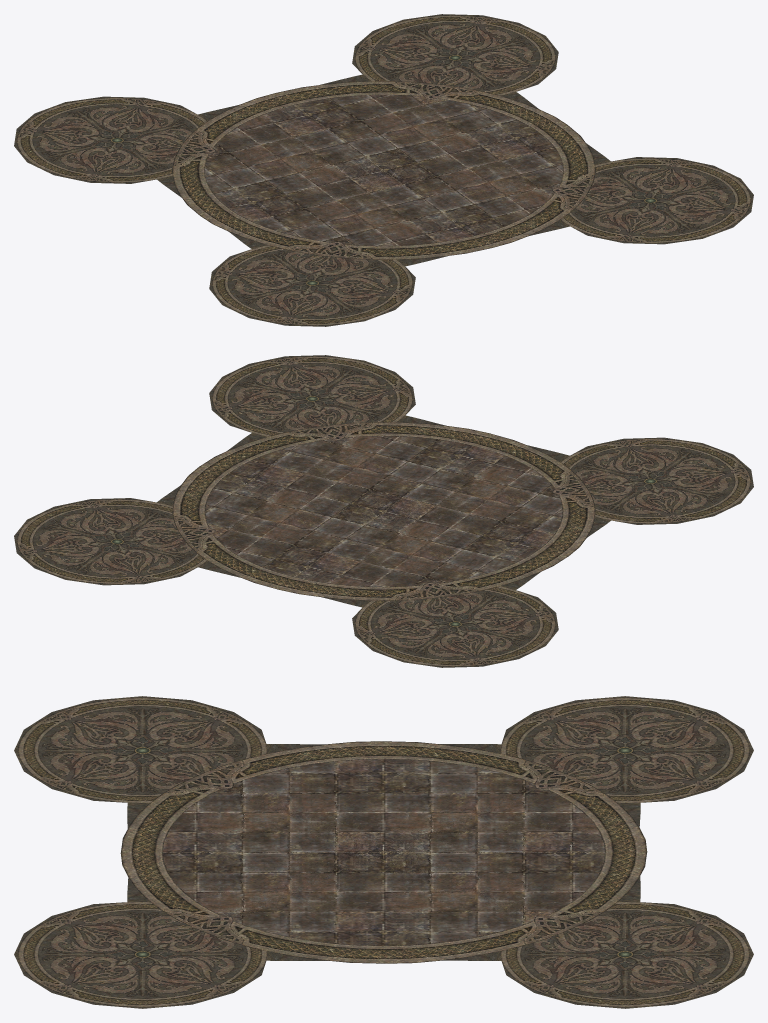
Rendered from miniboss_01-base.fbx.
The picture shows the model from 3 angles, top to bottom: view 1: azimuth 30°, elevation 25°; view 2: azimuth 150°, elevation 25°; view 3: azimuth 270°, elevation 25°; orthographic projection. The views are drawn at different scales.
Parts seen in each view (by area): view 1: miniboss_base01; view 2: miniboss_base01; view 3: miniboss_base01.
Part boxes in pixels (bbox=[...]): miniboss_base01: bbox=[14, 14, 753, 326]; miniboss_base01: bbox=[14, 355, 753, 667]; miniboss_base01: bbox=[14, 696, 753, 1008].
Size of the model in its own units: 41.28 by 2.44e-06 by 41.28.
